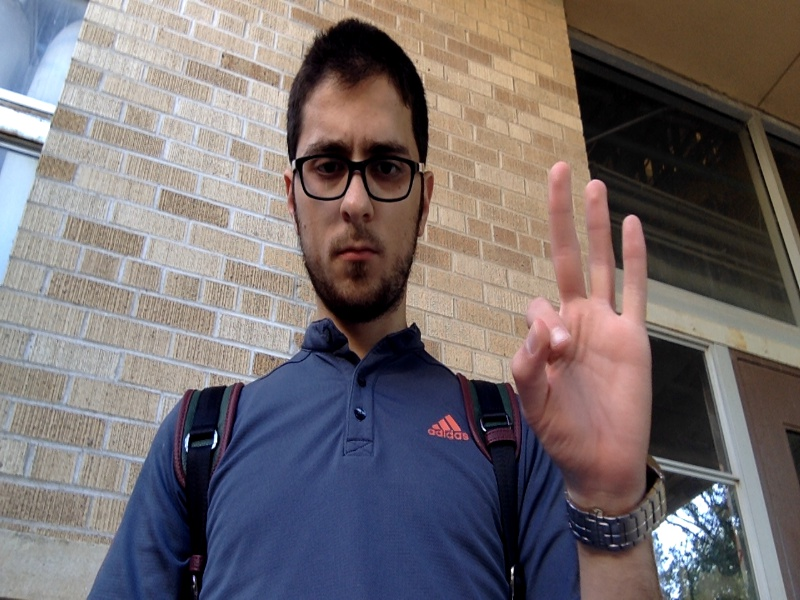3-hand: (523, 164, 651, 499)
